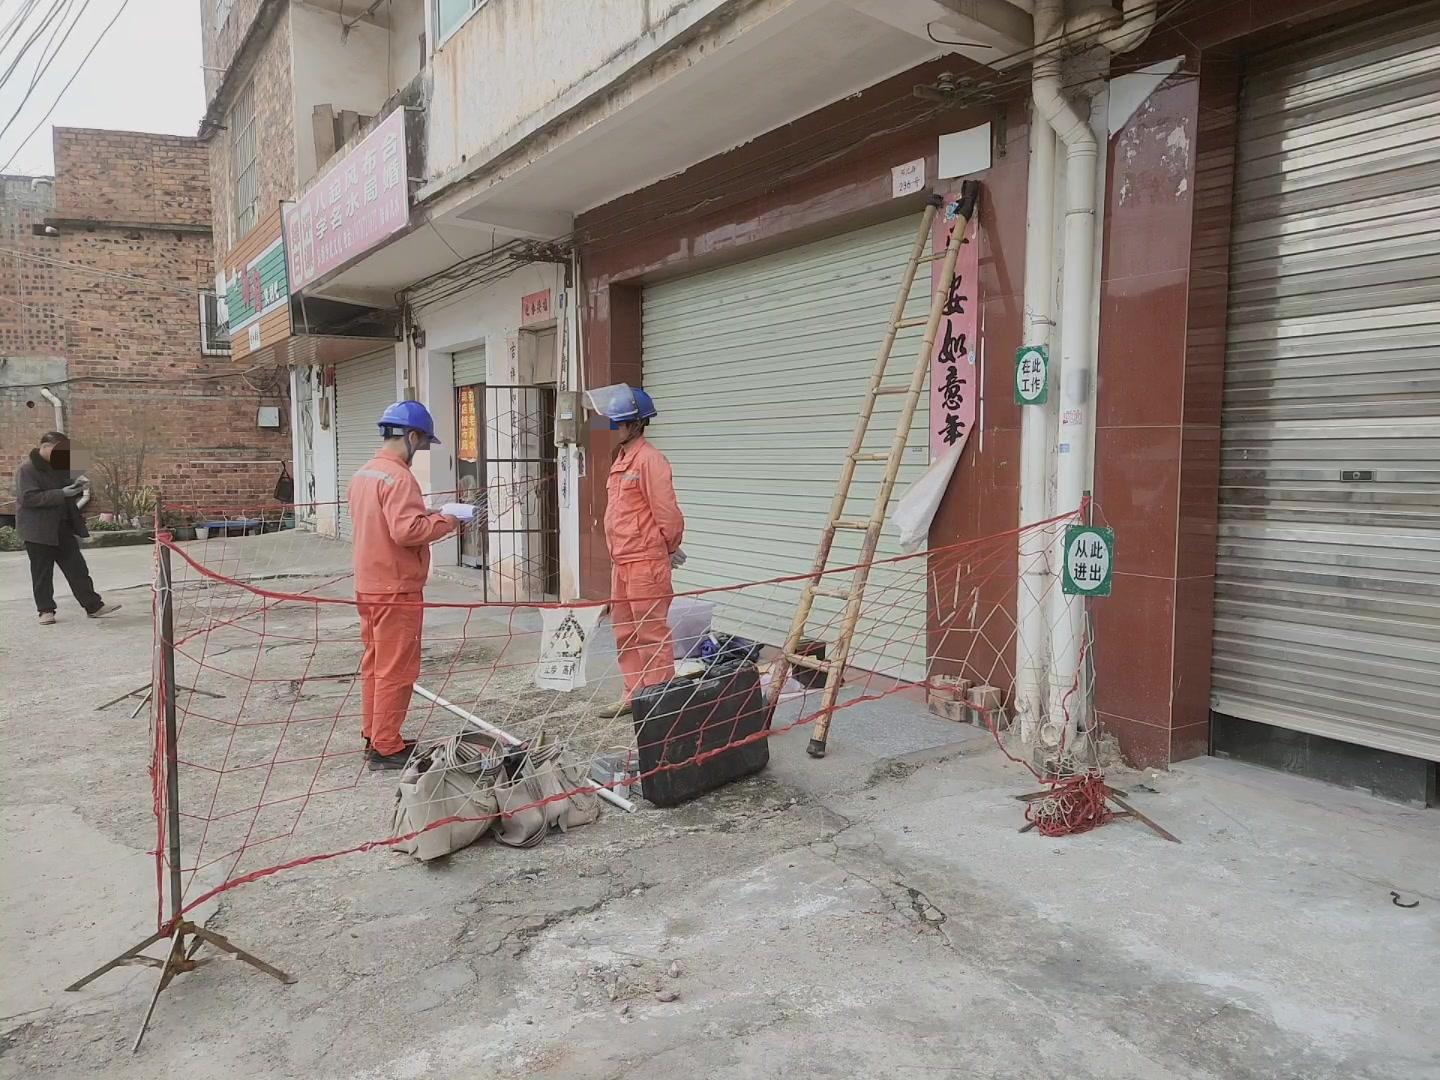halt: (378, 402, 441, 459), (599, 387, 659, 442)
inear: (403, 428, 424, 452), (630, 419, 650, 437)
noear: (37, 440, 53, 454)
unhalt: (39, 434, 73, 467)
